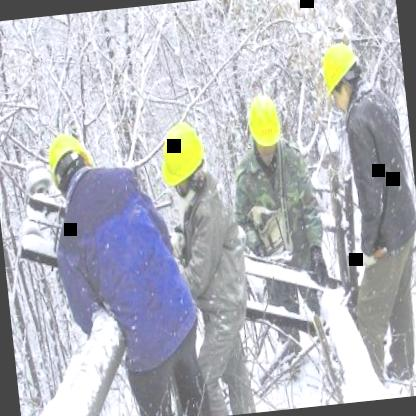helmet: (151, 112, 214, 204), (312, 34, 368, 116), (41, 128, 98, 204), (241, 88, 284, 164)
